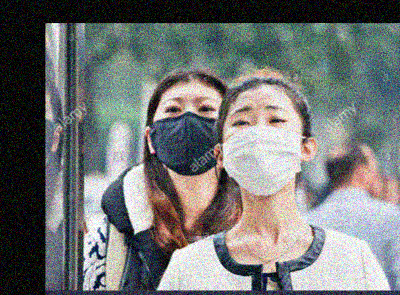with_mask: (221, 102, 304, 198), (150, 93, 225, 178)
